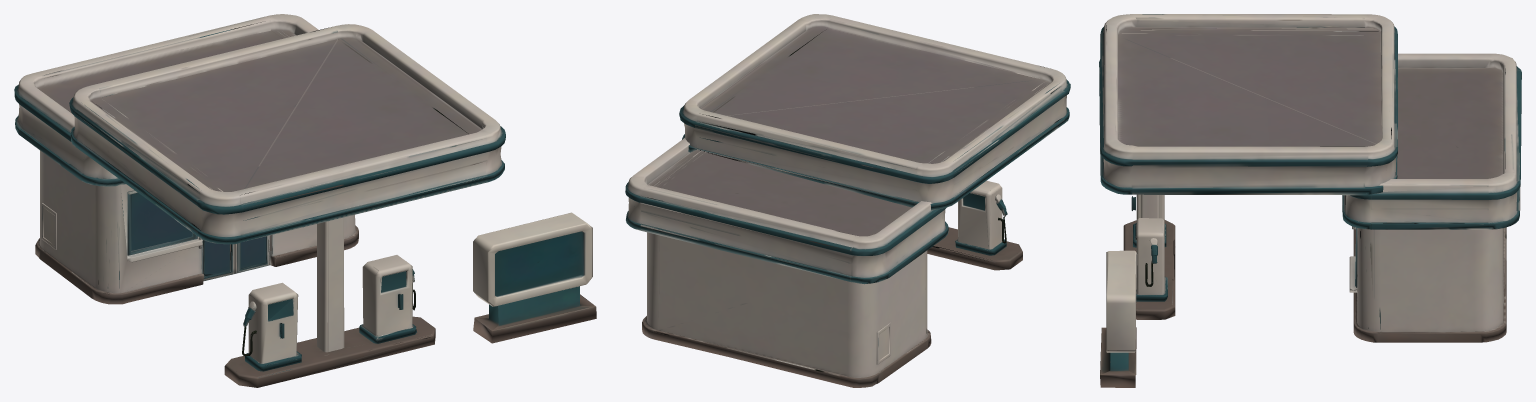
The model's file is 17-gas-station.glb.
3 views of the same model, side by side, from view 1: azimuth 30°, elevation 25°; view 2: azimuth 150°, elevation 25°; view 3: azimuth 270°, elevation 25° (orthographic). The views are drawn at different scales.
Parts seen in each view (by area): view 1: geometry_0; view 2: geometry_0; view 3: geometry_0.
Part boxes in pixels (x1,y1,x2,y2): geometry_0: (14, 14, 596, 387); geometry_0: (625, 14, 1070, 387); geometry_0: (1099, 14, 1521, 387).
Size of the model in its own units: 0.9512 by 0.4932 by 0.9526.
Materials: 1 (1 with a texture image).
